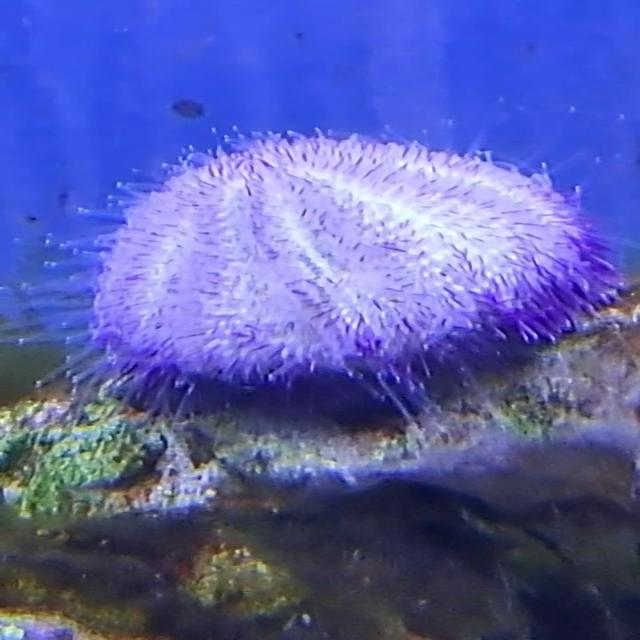Deniz Kestanesi: (23, 122, 612, 394)
